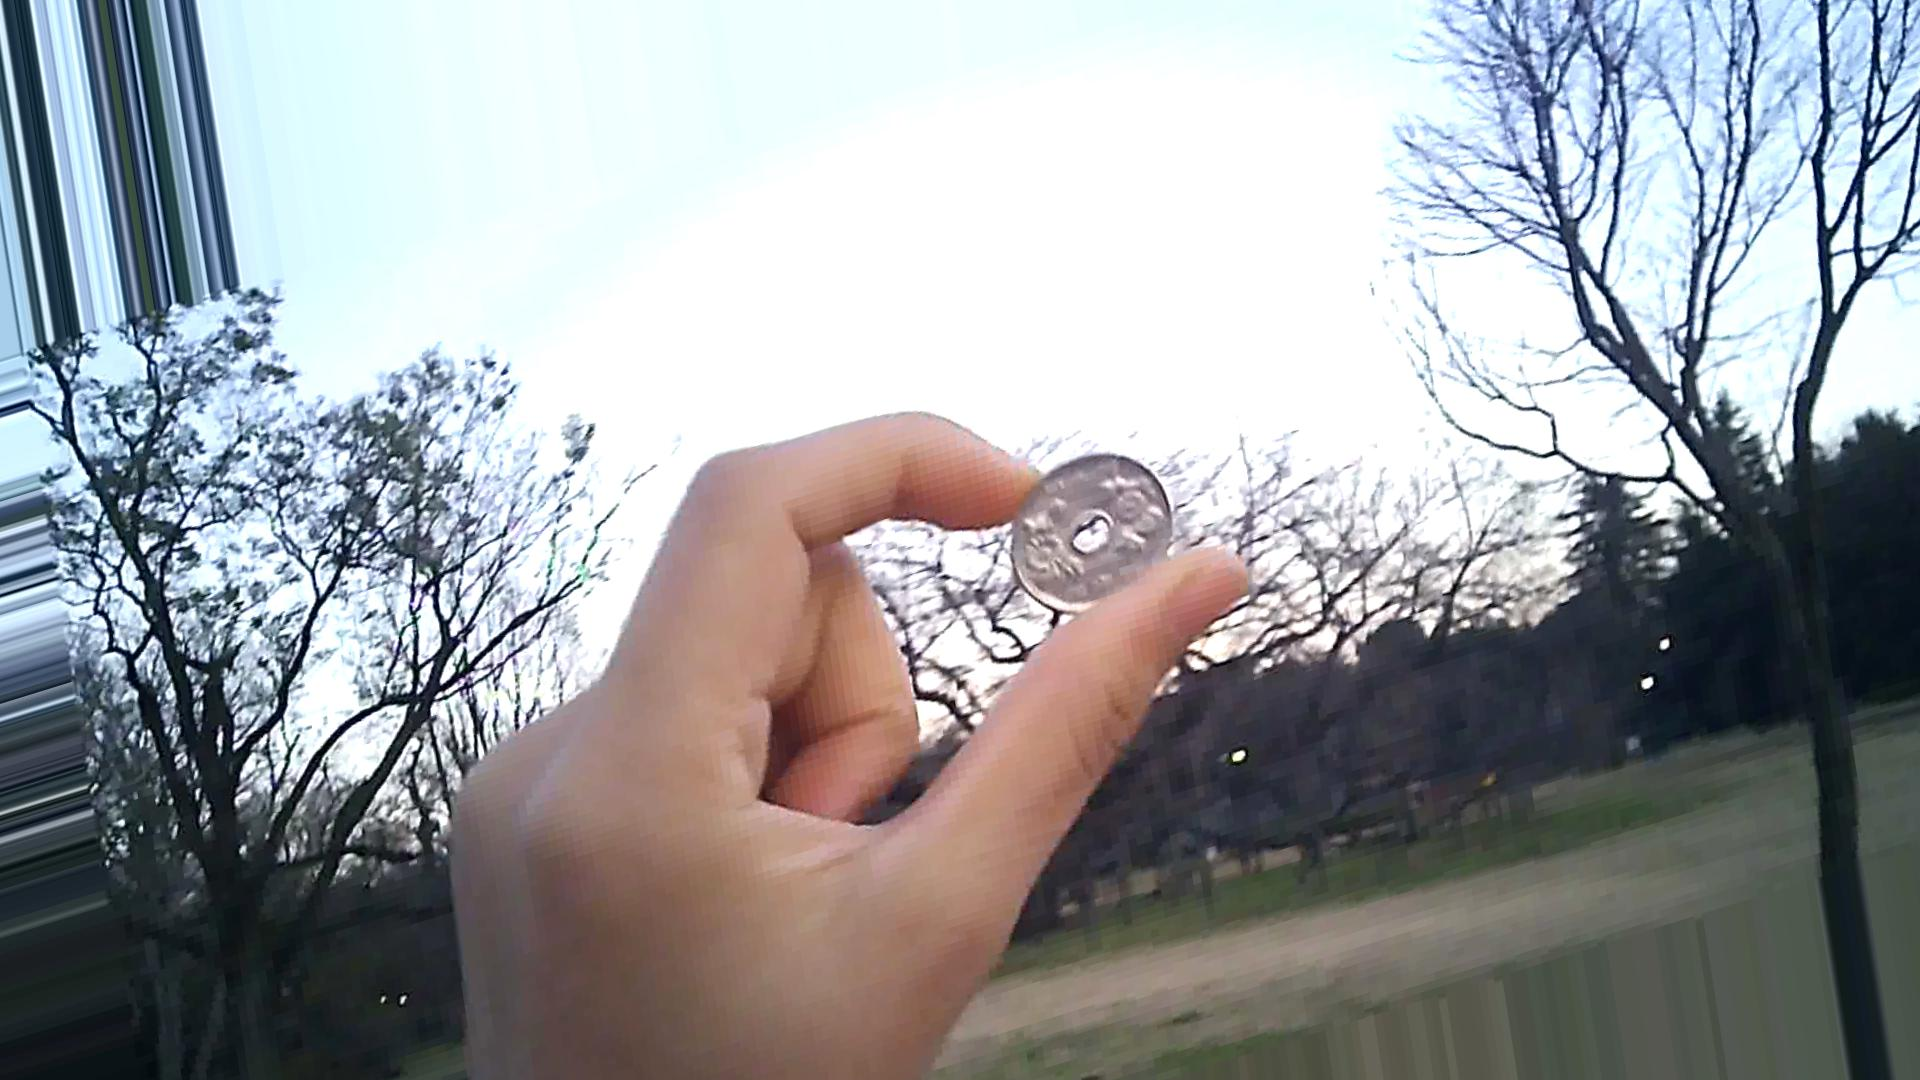50 Yen: (1000, 436, 1188, 646)
